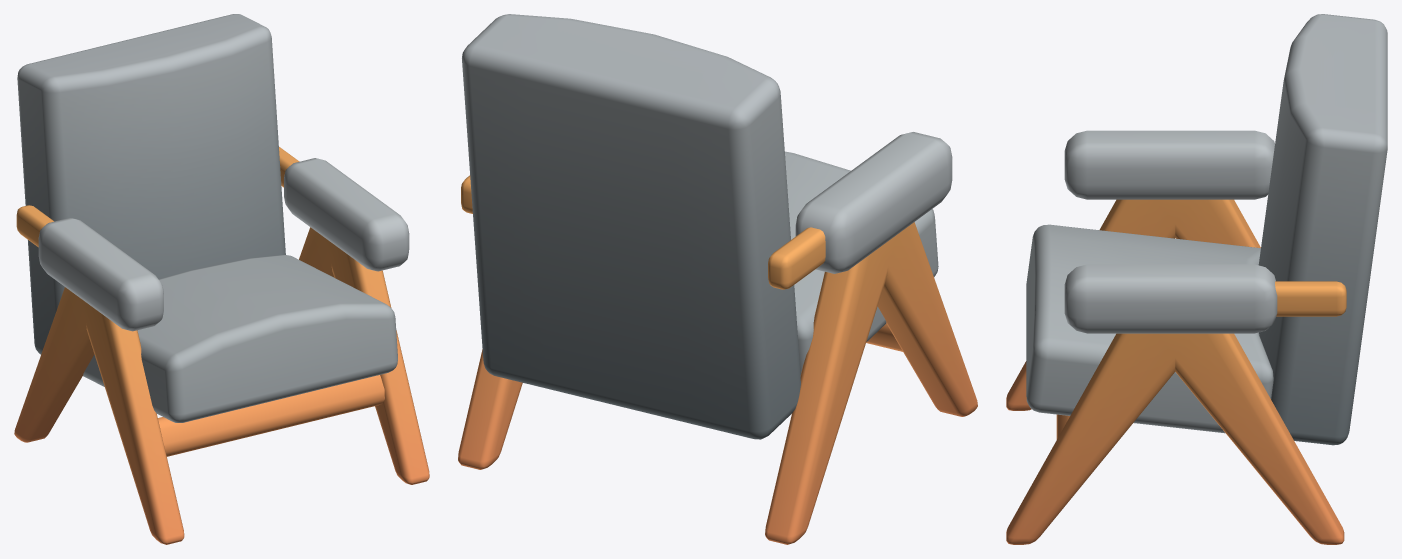
The model's file is Armchair_14.glb.
The picture shows the model from 3 angles, left to right: view 1: azimuth 30°, elevation 25°; view 2: azimuth 150°, elevation 25°; view 3: azimuth 270°, elevation 25°; orthographic projection. The views are drawn at different scales.
Visible parts, largest first — view 1: Armchair_14; view 2: Armchair_14; view 3: Armchair_14.
Part boxes in pixels (x1=…): Armchair_14: x1=14, y1=14, x2=429, y2=544; Armchair_14: x1=458, y1=14, x2=977, y2=544; Armchair_14: x1=1006, y1=14, x2=1387, y2=544.
Size of the model in its own units: 0.7571 by 0.9064 by 0.7741.
1 material, 1 textured.
